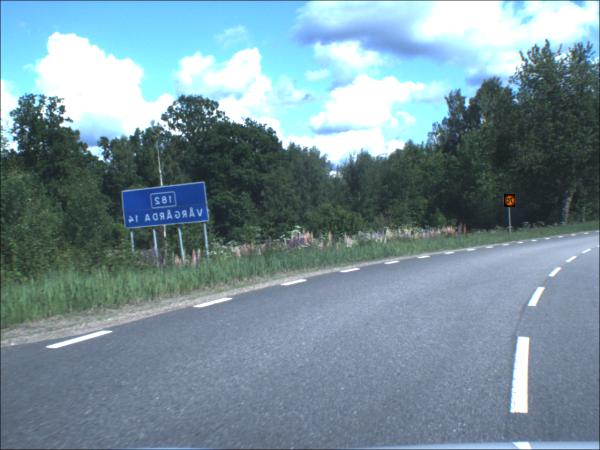70_SIGN: (504, 195, 516, 209)
